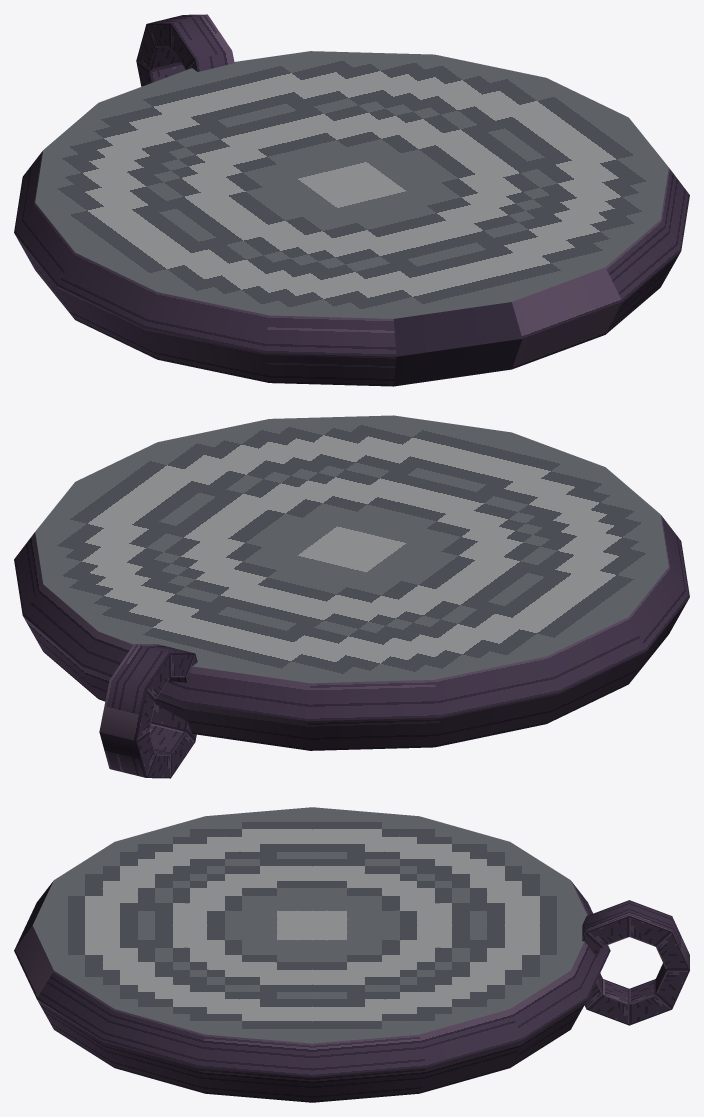
Rendered from INV_StrangeEmblem.glb.
3 views of the same model, one above another, from view 1: azimuth 30°, elevation 25°; view 2: azimuth 150°, elevation 25°; view 3: azimuth 270°, elevation 25° (orthographic). The views are drawn at different scales.
Visible parts, largest first — view 1: INV_StrangeEmblem_Mesh; view 2: INV_StrangeEmblem_Mesh; view 3: INV_StrangeEmblem_Mesh.
Part boxes in pixels (x1,y1,x2,y2): INV_StrangeEmblem_Mesh: (14,14,689,386); INV_StrangeEmblem_Mesh: (14,415,689,778); INV_StrangeEmblem_Mesh: (14,807,689,1102).
Size of what is drawn, in the model's own units: 0.064 by 0.013 by 0.0725.
1 material, 1 textured.
